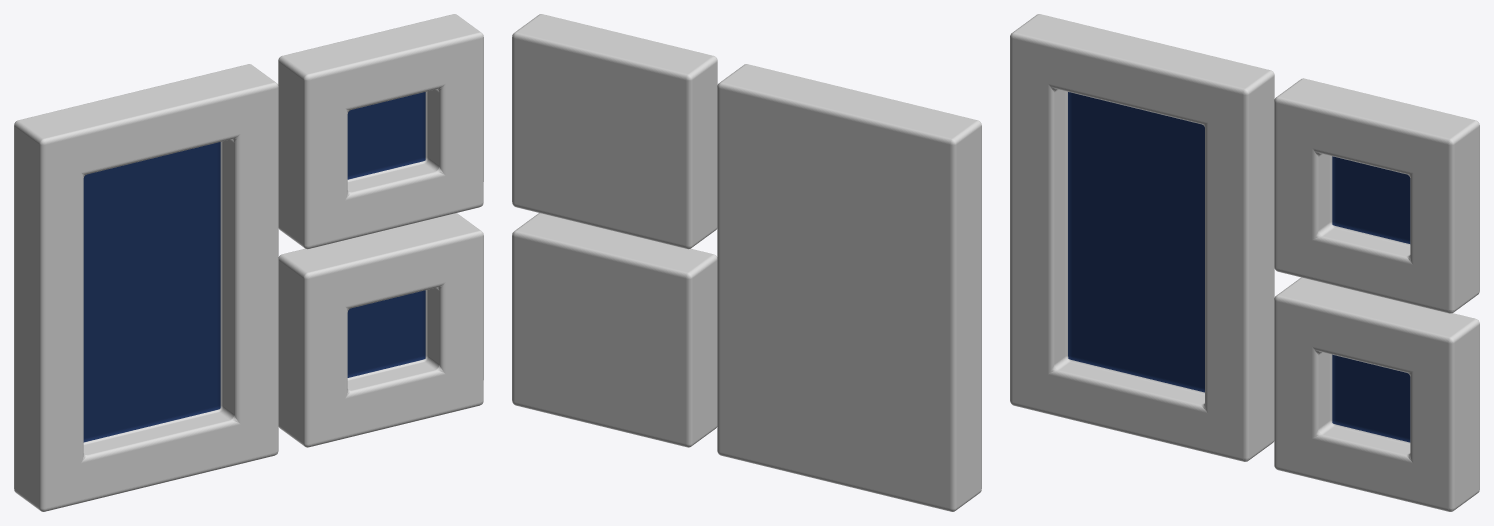
File: frames.obj
3 renders of one model, left to right at view 1: azimuth 30°, elevation 25°; view 2: azimuth 150°, elevation 25°; view 3: azimuth 330°, elevation 25°, orthographic.
Parts seen in each view (by area): view 1: frames; view 2: frames; view 3: frames.
Part boxes in pixels (x1,y1,x2,y2): frames: [14, 14, 483, 511]; frames: [512, 14, 981, 511]; frames: [1010, 14, 1479, 511].
Size of the model in its own units: 0.9334 by 0.7493 by 0.1049.
